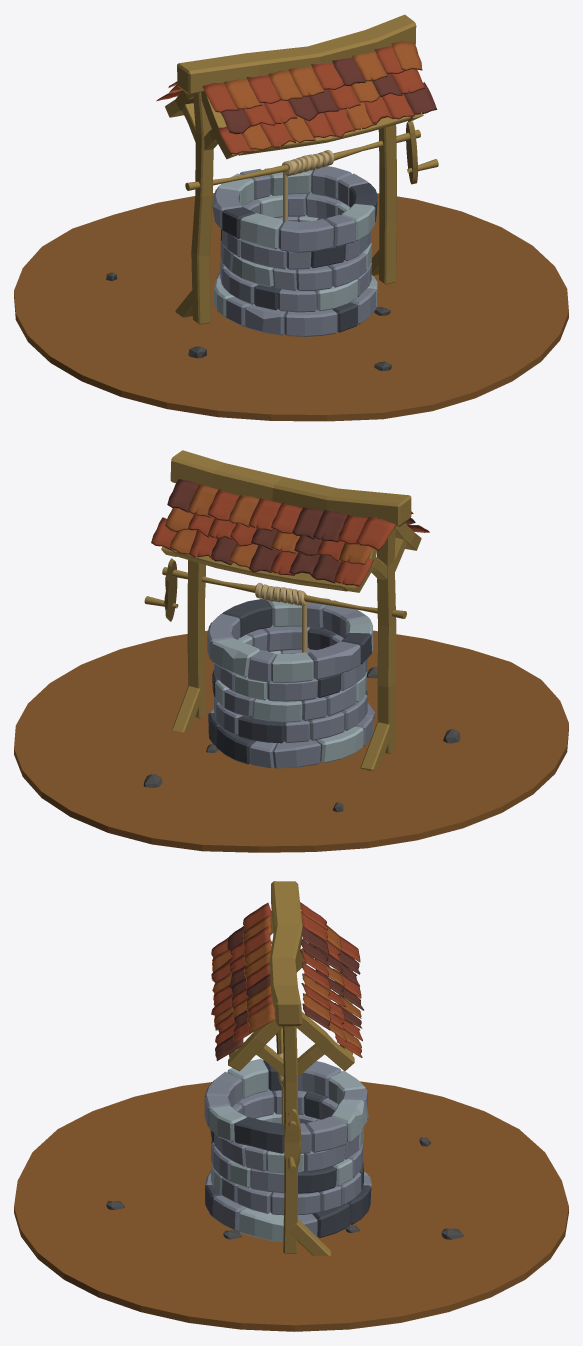
The model's file is low-poly-well.fbx.
The picture shows the model from 3 angles, top to bottom: view 1: azimuth 30°, elevation 25°; view 2: azimuth 150°, elevation 25°; view 3: azimuth 270°, elevation 25°; orthographic projection.
Visible parts, largest first — view 1: Plane.139, Plane.150, Plane.149, Plane.148, Plane.012, Plane.038, Plane.010, Plane.161, Plane.036, Plane.160, Plane.018, Plane.035 (+41 smaller); view 2: Plane.139, Plane.084, Plane.150, Plane.149, Plane.148, Plane.016, Plane.159, Plane.020, Plane.014, Plane.041, Plane.008, Plane.043 (+21 smaller); view 3: Plane.139, Plane.084, Plane.150, Plane.148, Plane.008, Plane.051, Plane.157, Plane.018, Plane.158, Plane.016, Plane.010, Plane.020 (+15 smaller).
Part boxes in pixels (bbox=[...]): Plane.139: bbox=[14, 193, 568, 421]; Plane.150: bbox=[177, 14, 416, 94]; Plane.149: bbox=[191, 92, 213, 324]; Plane.148: bbox=[378, 124, 396, 284]; Plane.012: bbox=[279, 219, 334, 252]; Plane.038: bbox=[284, 309, 337, 336]; Plane.010: bbox=[240, 213, 283, 249]; Plane.161: bbox=[185, 129, 420, 190]; Plane.036: bbox=[245, 304, 286, 335]; Plane.160: bbox=[238, 116, 410, 155]; Plane.018: bbox=[311, 166, 351, 199]; Plane.035: bbox=[241, 239, 286, 269]; Plane.139: bbox=[14, 630, 568, 852]; Plane.084: bbox=[151, 479, 396, 586]; Plane.150: bbox=[170, 450, 411, 526]; Plane.149: bbox=[377, 526, 396, 753]; Plane.148: bbox=[187, 560, 206, 718]; Plane.016: bbox=[308, 641, 360, 679]; Plane.159: bbox=[173, 550, 347, 591]; Plane.020: bbox=[211, 638, 259, 677]; Plane.014: bbox=[271, 652, 313, 682]; Plane.041: bbox=[272, 739, 321, 768]; Plane.008: bbox=[222, 599, 271, 637]; Plane.043: bbox=[316, 726, 363, 763]; Plane.139: bbox=[14, 1081, 568, 1331]; Plane.084: bbox=[300, 902, 363, 1057]; Plane.150: bbox=[269, 881, 302, 1026]; Plane.148: bbox=[283, 1026, 298, 1253]; Plane.008: bbox=[234, 1117, 284, 1153]; Plane.051: bbox=[238, 1208, 283, 1241]; Plane.157: bbox=[295, 1011, 354, 1070]; Plane.018: bbox=[306, 1116, 346, 1152]; Plane.158: bbox=[228, 1020, 283, 1071]; Plane.016: bbox=[297, 1058, 341, 1097]; Plane.010: bbox=[227, 1058, 268, 1098]; Plane.020: bbox=[331, 1099, 367, 1142].
Size of the model in its own units: 4723 by 2613 by 4645.
